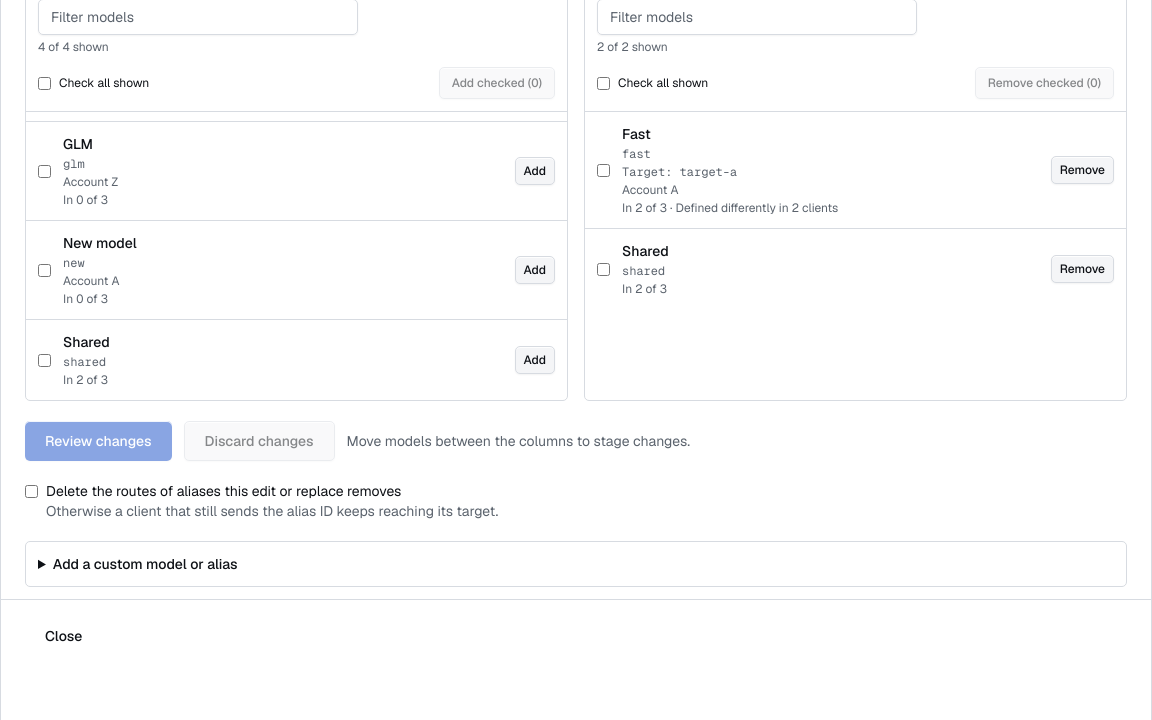
Scenario: bulk catalogue editing › stages one intent per model and moves it out of the other column
(page scrolled)
What coordinates should you click on to do the following:
click the 3rd button "Add"
I would click on:
 (535, 360)
Its box is [514,346,555,374].
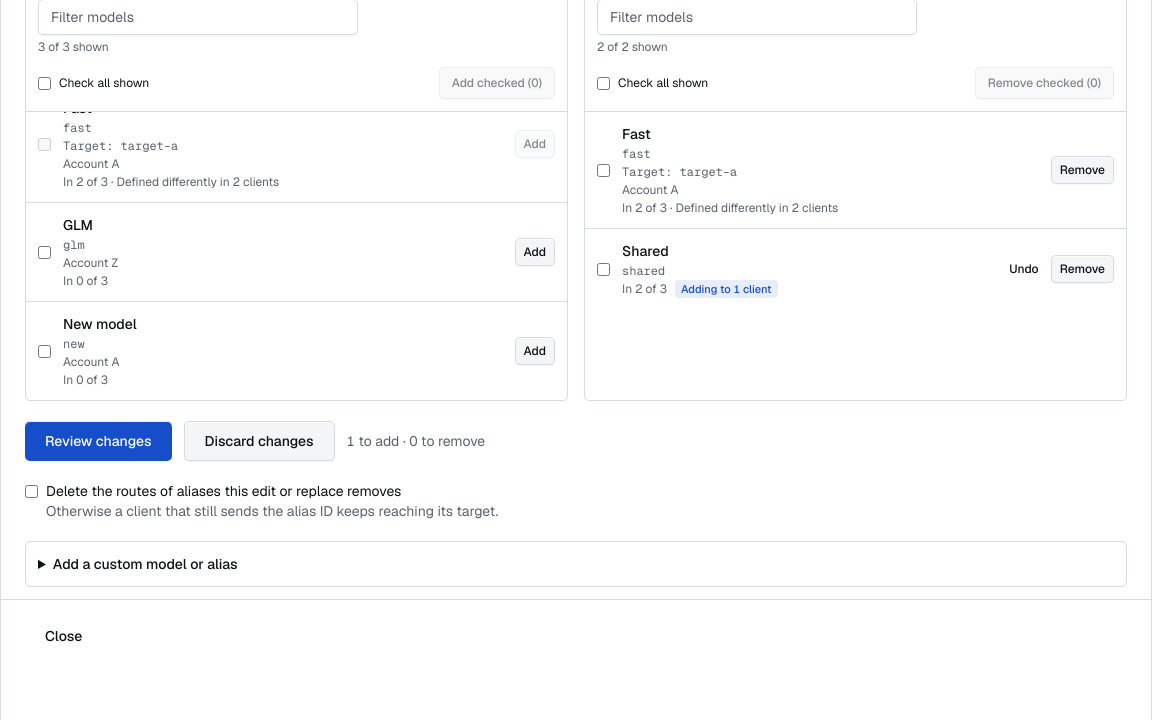
What coordinates should you click on to do the following:
click the 2nd button "Remove"
I would click on:
 (1082, 269)
Its box is [1051,255,1114,283].
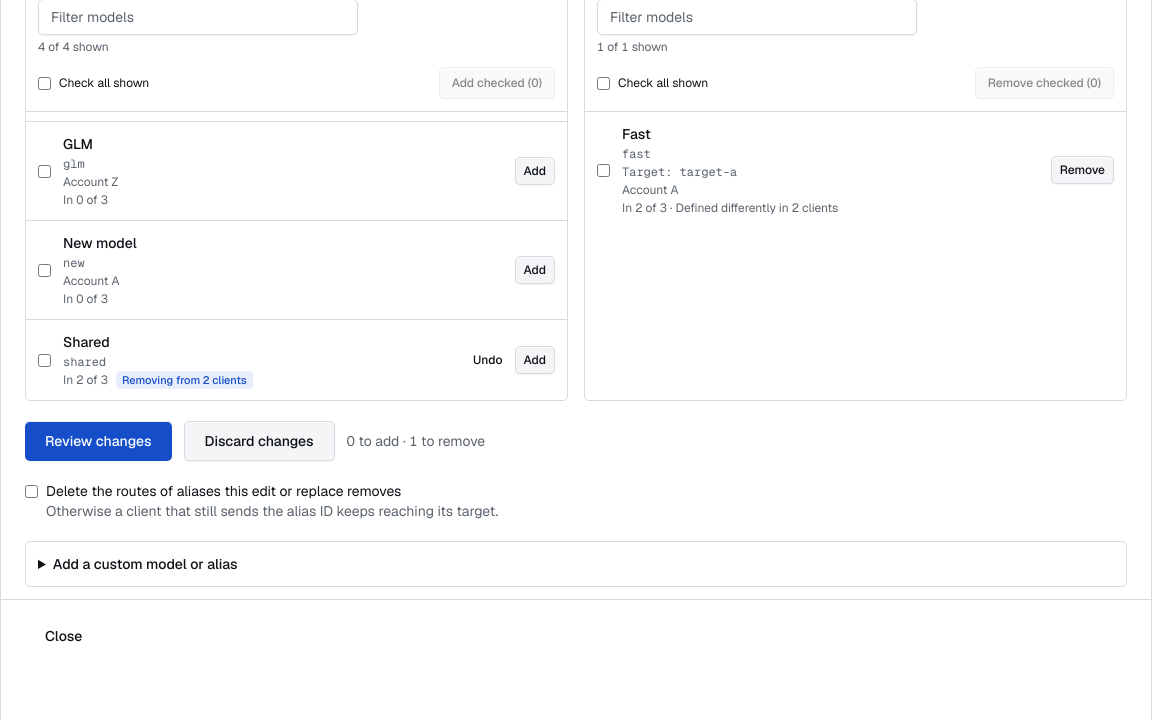
What coordinates should you click on to do the following:
click the button "Undo"
I would click on:
 (488, 360)
Its box is [465,346,510,374].
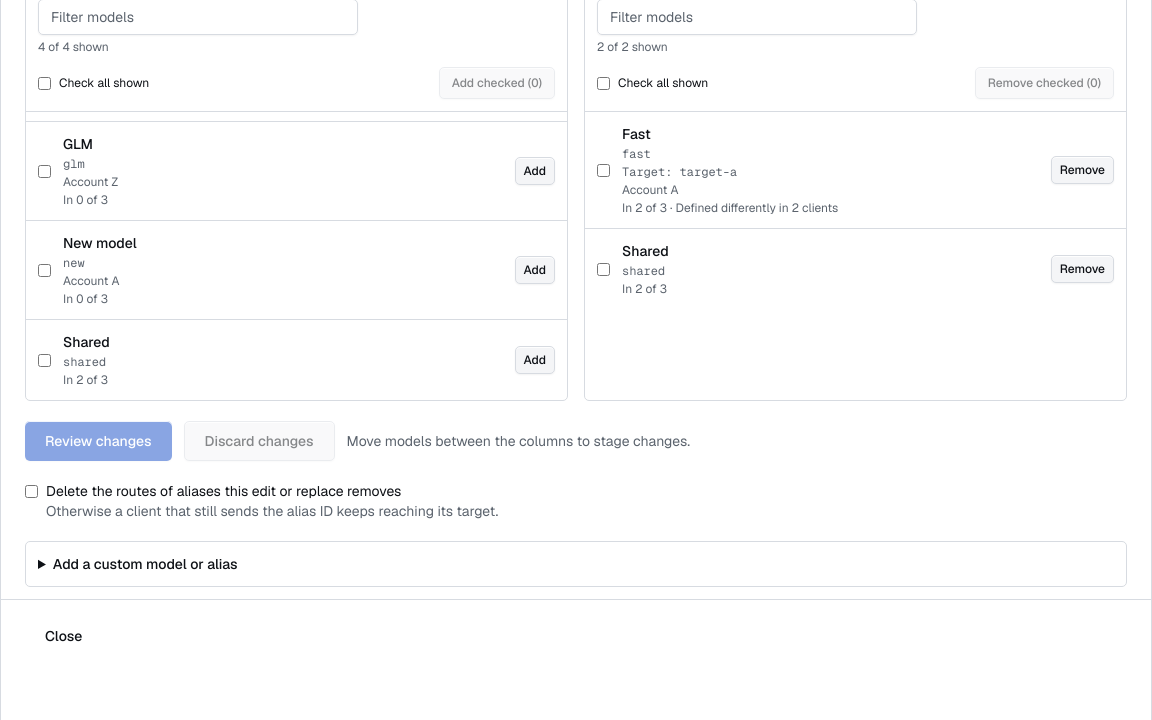
Expected: the message "Move models between the columns to stage changes." is shown, [347,431,690,451]
